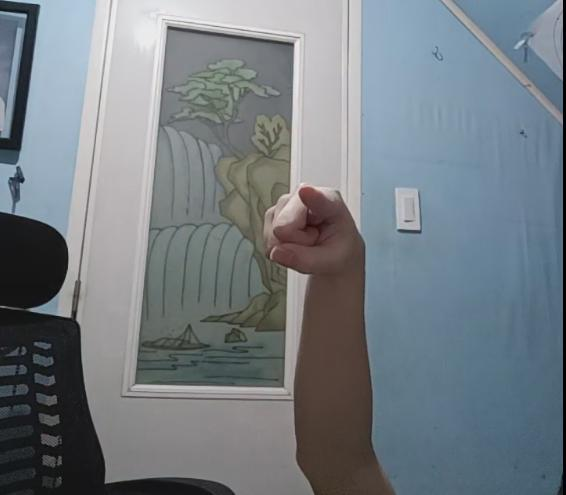z: (263, 184, 368, 272)
